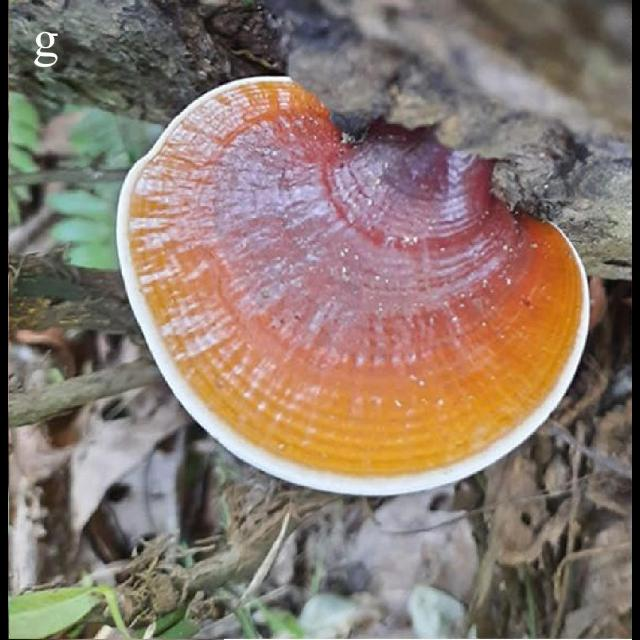ganoderma: (116, 75, 594, 502)
